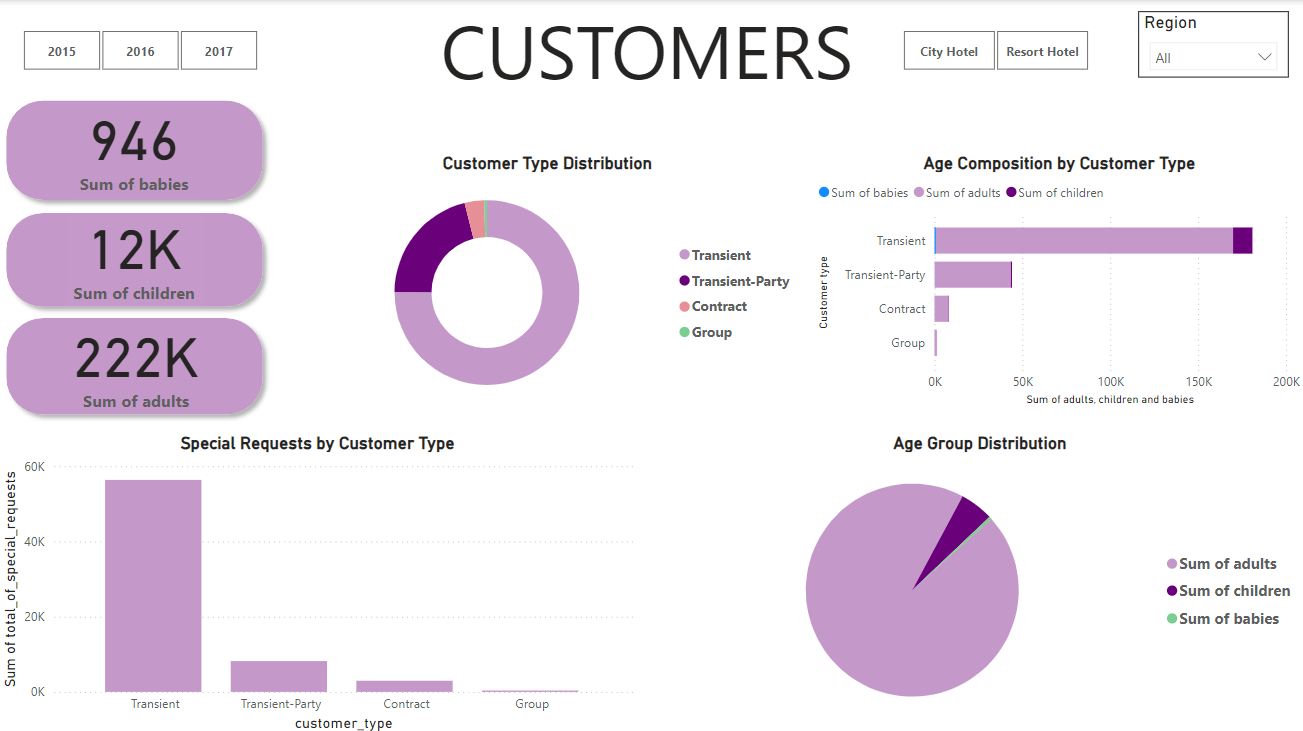

This screenshot's page, from the dashboard's own definition file:
{"tool":"powerbi","page":{"name":"CUSTOMERS","canvas":[1280,720],"ordinal":3},"visuals":[{"type":"textbox","box":[429.5,0,426.8,98.8],"z":0},{"type":"donutChart","title":"Customer Type Distribution","fields":{"Category":["hotel_bookings.customer_type"],"Y":["CountNonNull(hotel_bookings.customer_type)"]},"box":[286.8,149.6,502.2,255.2],"z":1000},{"type":"columnChart","title":"Special Requests by Customer Type","fields":{"Category":["hotel_bookings.customer_type"],"Y":["Sum(hotel_bookings.total_of_special_requests)"]},"box":[0,422.6,627.1,297.8],"z":2000},{"type":"pieChart","title":"Age Group Distribution","fields":{"Y":["Sum(hotel_bookings.adults)","Sum(hotel_bookings.children)","Sum(hotel_bookings.babies)"]},"box":[643.6,422.6,636.7,289.5],"z":3000},{"type":"barChart","title":"Age Composition by Customer Type","fields":{"Category":["hotel_bookings.customer_type"],"Y":["Sum(hotel_bookings.babies)","Sum(hotel_bookings.adults)","Sum(hotel_bookings.children)"]},"box":[798.6,149.6,481.6,252.5],"z":4000},{"type":"shape","box":[0,89.6,269,115.3],"z":5000},{"type":"shape","box":[0,199.5,269,109.8],"z":6000},{"type":"shape","box":[0,301.9,269,112.5],"z":7000},{"type":"card","fields":{"Values":["Sum(hotel_bookings.adults)"]},"box":[52.1,301.9,167.4,102.9],"z":8000},{"type":"card","fields":{"Values":["Sum(hotel_bookings.children)"]},"box":[67.2,192.6,134.5,109.8],"z":9000},{"type":"card","fields":{"Values":["Sum(hotel_bookings.babies)"]},"box":[52.1,89.6,163.3,104.3],"z":10000},{"type":"slicer","fields":{"Values":["hotel_bookings.hotel"]},"box":[860.4,23.3,230.5,52.1],"z":11000},{"type":"slicer","title":"Region","fields":{"Values":["Geo data.region","Geo data.Country"]},"box":[1117,11,146.8,64.5],"z":12000},{"type":"slicer","fields":{"Values":["hotel_bookings.Date .Variation.Date Hierarchy.Year"]},"box":[0,23.3,278.6,52.1],"z":13000}]}

Visuals, with their boxes in screenshot pixels (x1, y1, x2, y2), scaled from the page's 1280x720 canvas onto the 1303x731 screenshot:
textbox: <region>437, 0, 872, 100</region>
"Customer Type Distribution" donutChart: <region>292, 152, 803, 411</region>
"Special Requests by Customer Type" columnChart: <region>0, 429, 638, 730</region>
"Age Group Distribution" pieChart: <region>655, 429, 1302, 723</region>
"Age Composition by Customer Type" barChart: <region>813, 152, 1302, 408</region>
shape: <region>0, 91, 274, 208</region>
shape: <region>0, 203, 274, 314</region>
shape: <region>0, 307, 274, 421</region>
card - Sum(hotel_bookings.adults): <region>53, 307, 223, 411</region>
card - Sum(hotel_bookings.children): <region>68, 196, 205, 307</region>
card - Sum(hotel_bookings.babies): <region>53, 91, 219, 197</region>
slicer - hotel_bookings.hotel: <region>876, 24, 1111, 77</region>
"Region" slicer: <region>1137, 11, 1287, 77</region>
slicer - hotel_bookings.Date .Variation.Date Hierarchy.Year: <region>0, 24, 284, 77</region>
